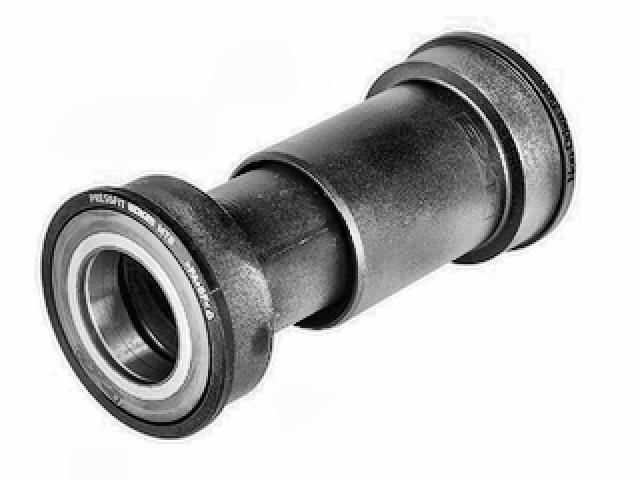bottom_bracket: (39, 28, 580, 443)
